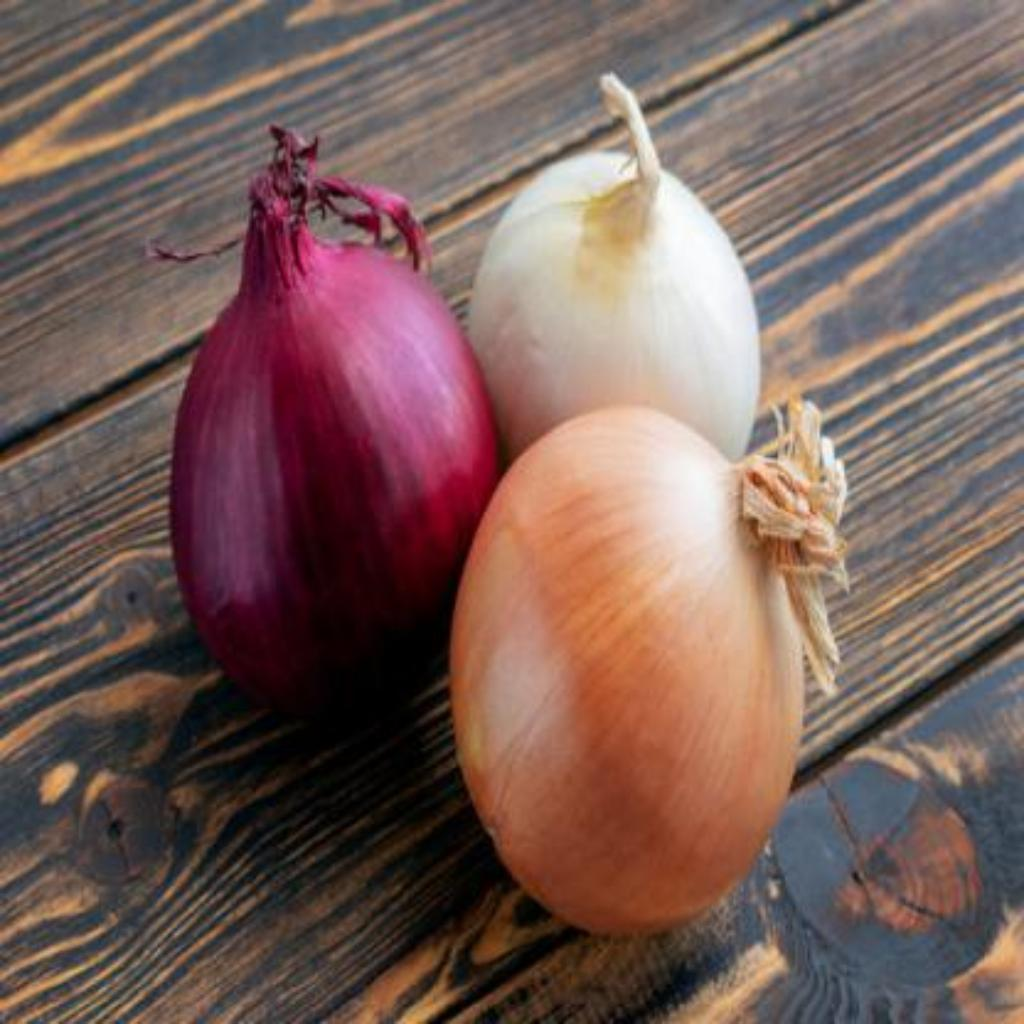Onion: (453, 404, 849, 935), (170, 126, 500, 715), (473, 74, 763, 460)
